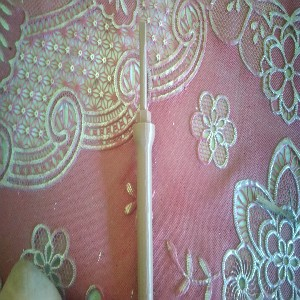obeng: (132, 21, 156, 300)
